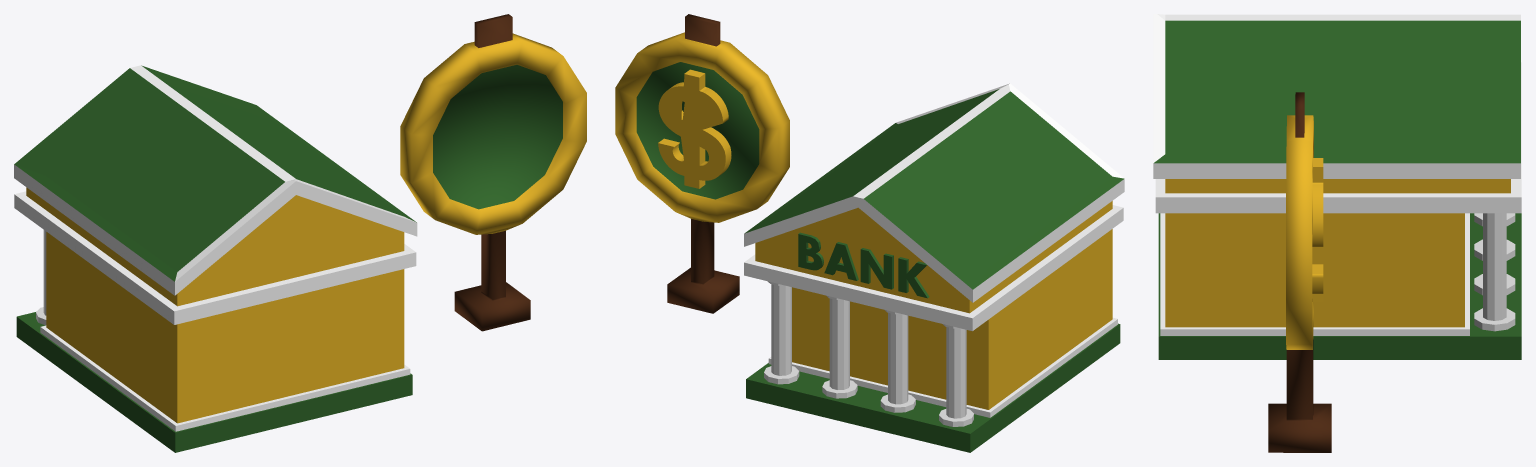
File: bank.fbx
The picture shows the model from 3 angles, left to right: view 1: azimuth 30°, elevation 25°; view 2: azimuth 150°, elevation 25°; view 3: azimuth 270°, elevation 25°; orthographic projection. The views are drawn at different scales.
Parts seen in each view (by area): view 1: house, dollar sign; view 2: house, dollar sign, columns, bank sign; view 3: house, dollar sign, columns.
Part boxes in pixels (x1,y1,x2,y2): house: [14, 65, 417, 452]; dollar sign: [400, 14, 586, 331]; house: [744, 83, 1124, 452]; dollar sign: [615, 14, 789, 313]; columns: [764, 281, 973, 426]; bank sign: [798, 232, 929, 298]; house: [1153, 14, 1521, 359]; dollar sign: [1268, 92, 1331, 452]; columns: [1474, 213, 1515, 331].
Bounding box in the file's own units: 131 × 78.67 × 77.63.
